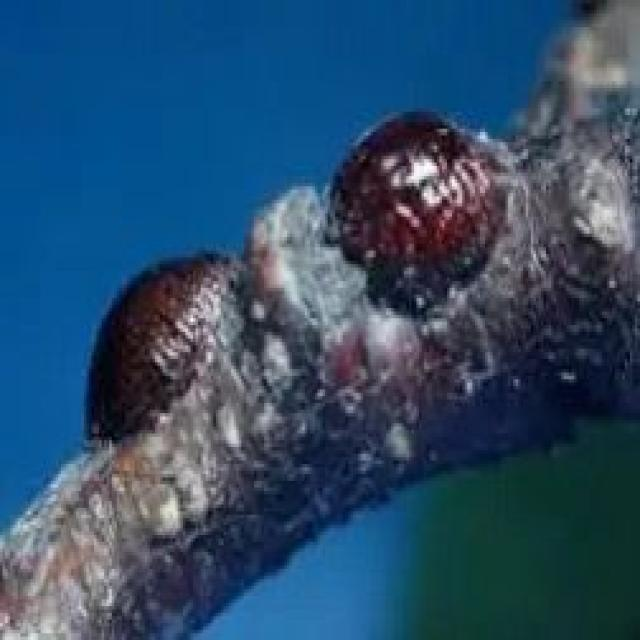Healthy: (328, 112, 505, 308), (86, 251, 254, 437)
